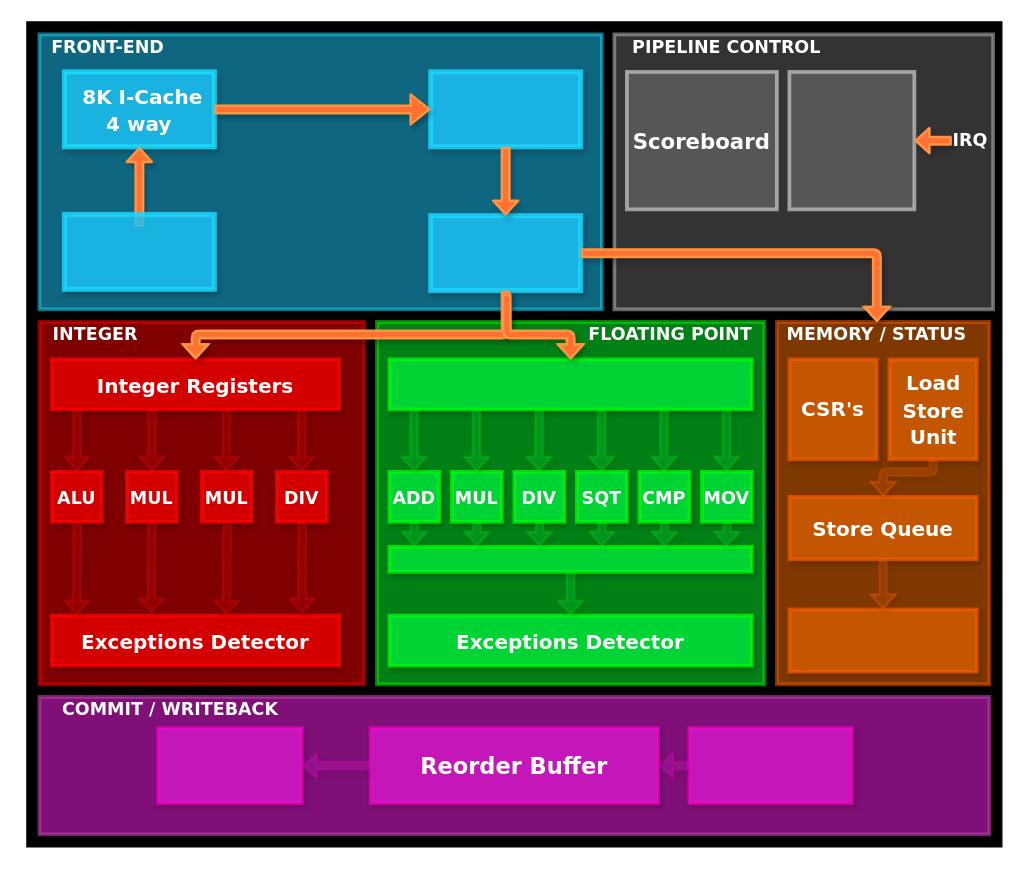
The diagram is 1024 pixels wide and 869 high, and some of its shapes have lost their labels. The shapes that lost their labels are listed below. From the top down, each one's centre as x and y in pixels, then its label:
At pixel 506 111: "Prefetch Unit".
At pixel 851 140: "Interrupt Controller".
At pixel 140 253: "Branch Predictor".
At pixel 506 254: "Instruction Decoder".
At pixel 571 385: "FP Registers".
At pixel 571 560: "Rounding Unit".
At pixel 884 642: "8K D-Cache 4 way".
At pixel 231 767: "Registers".
At pixel 771 767: "Speculative Killer".
